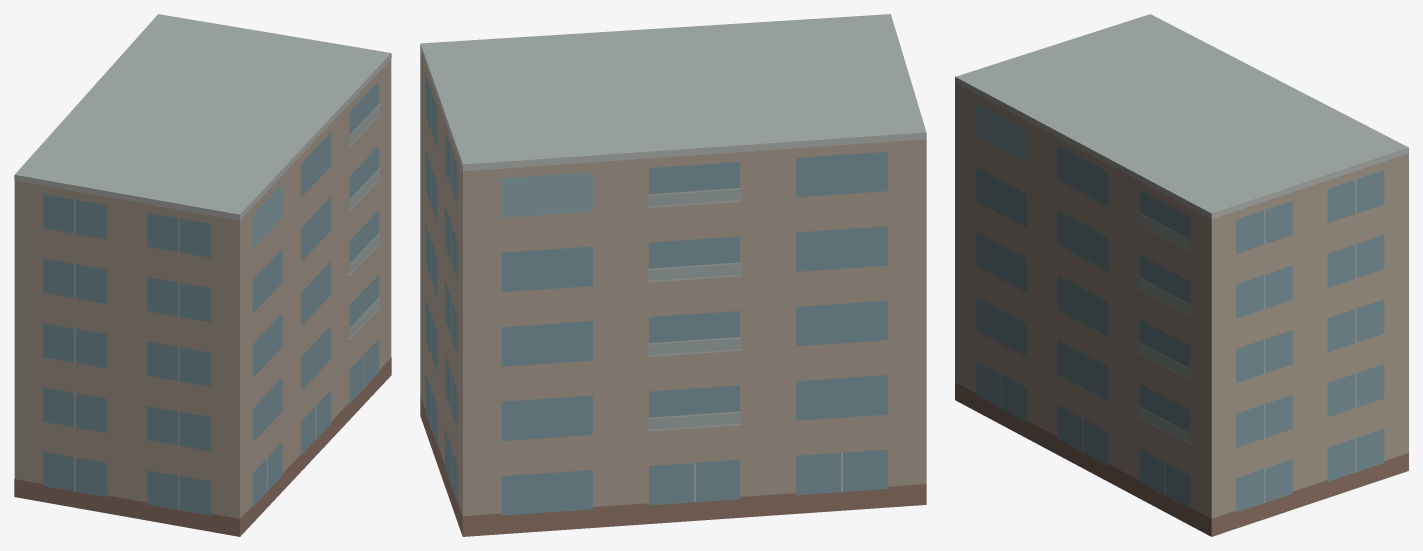
File: survey-upis-32999167.glb
3 renders of one model, left to right at view 1: azimuth 30°, elevation 25°; view 2: azimuth 150°, elevation 25°; view 3: azimuth 270°, elevation 25°, orthographic. The views are drawn at different scales.
Visible parts, largest first — view 1: survey-upis-32999167.tmp; view 2: survey-upis-32999167.tmp; view 3: survey-upis-32999167.tmp.
Boxes of the visible parts, <box> form: survey-upis-32999167.tmp: <box>14,14,391,536</box>; survey-upis-32999167.tmp: <box>420,14,926,536</box>; survey-upis-32999167.tmp: <box>955,14,1408,536</box>.
Size of the model in its own units: 17.61 by 13.3 by 16.92.
